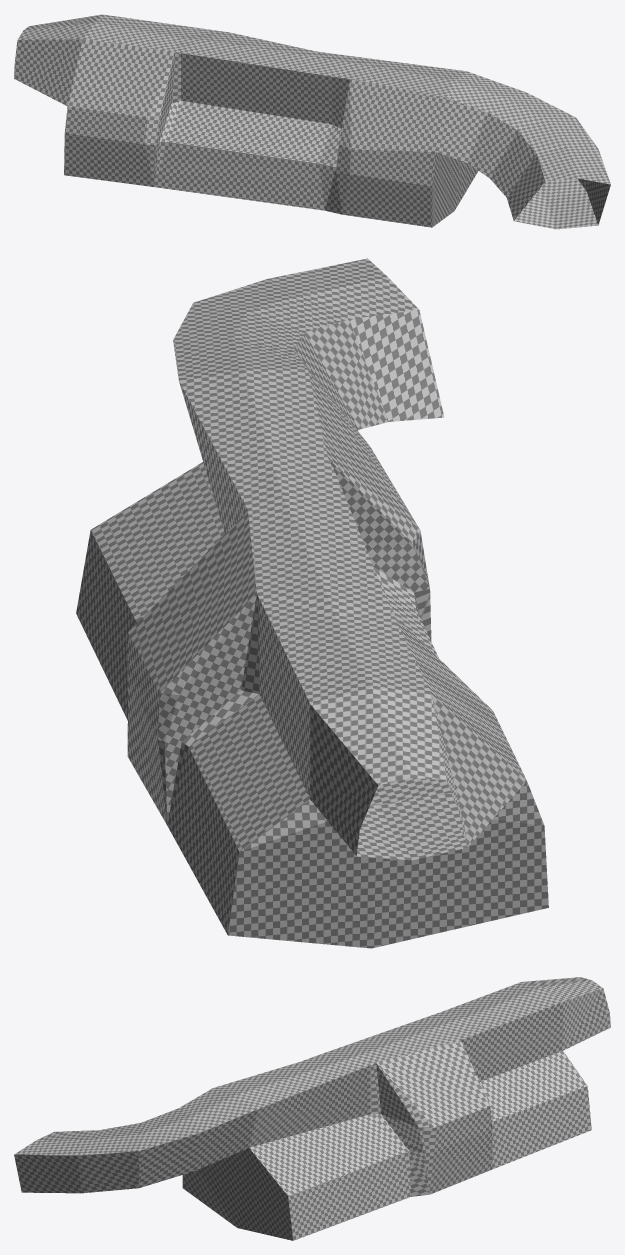
The model's file is prv1p-9.obj.
The picture shows the model from 3 angles, top to bottom: view 1: azimuth 30°, elevation 25°; view 2: azimuth 150°, elevation 25°; view 3: azimuth 270°, elevation 25°; orthographic projection. The views are drawn at different scales.
Visible parts, largest first — view 1: Cube.008; view 2: Cube.008; view 3: Cube.008.
Part boxes in pixels (x1=…): Cube.008: x1=14, y1=14, x2=610, y2=229; Cube.008: x1=76, y1=258, x2=548, y2=948; Cube.008: x1=14, y1=977, x2=610, y2=1240.
Bounding box in the file's own units: 160 × 58.13 × 231.
